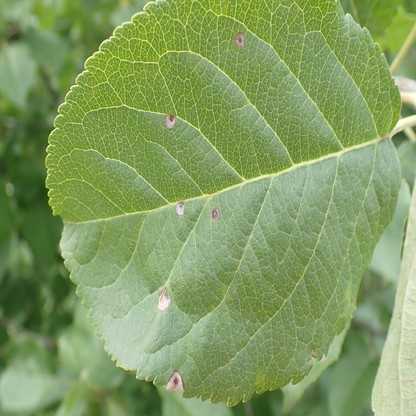frogeye_leaf_spot: (166, 370, 184, 391), (158, 286, 170, 311), (234, 33, 246, 48), (165, 113, 176, 129), (175, 199, 185, 216), (210, 207, 220, 222)
